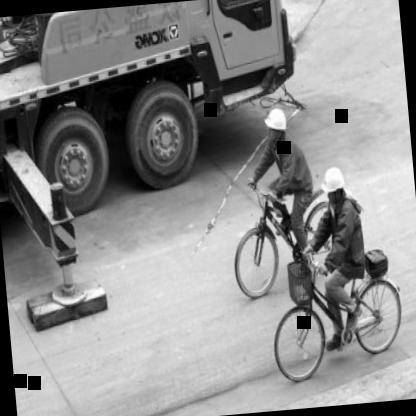helmet: (321, 166, 349, 209), (260, 104, 290, 144)
